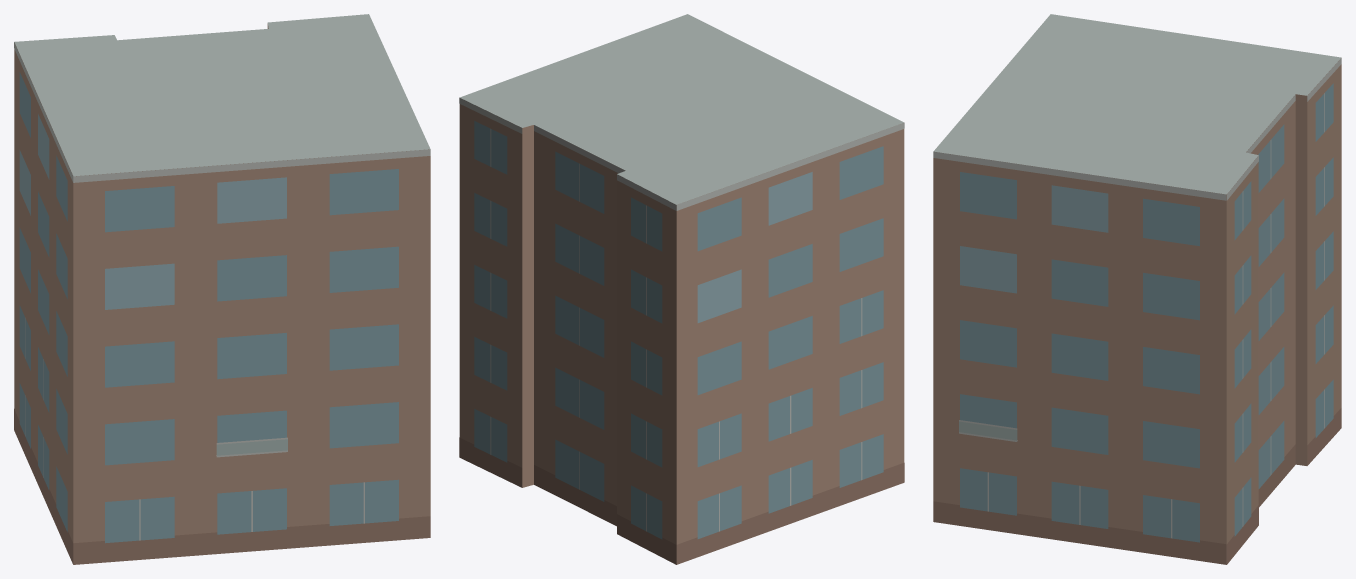
Rendered from survey-upis-32710387.glb.
3 views of the same model, side by side, from view 1: azimuth 30°, elevation 25°; view 2: azimuth 150°, elevation 25°; view 3: azimuth 270°, elevation 25° (orthographic). The views are drawn at different scales.
Visible parts, largest first — view 1: survey-upis-32710387.tmp; view 2: survey-upis-32710387.tmp; view 3: survey-upis-32710387.tmp.
Part boxes in pixels (x1,y1,x2,y2): survey-upis-32710387.tmp: (14,14,430,564); survey-upis-32710387.tmp: (459,14,904,564); survey-upis-32710387.tmp: (933,14,1341,564).
Size of the model in its own units: 14.95 by 14.3 by 14.3.
